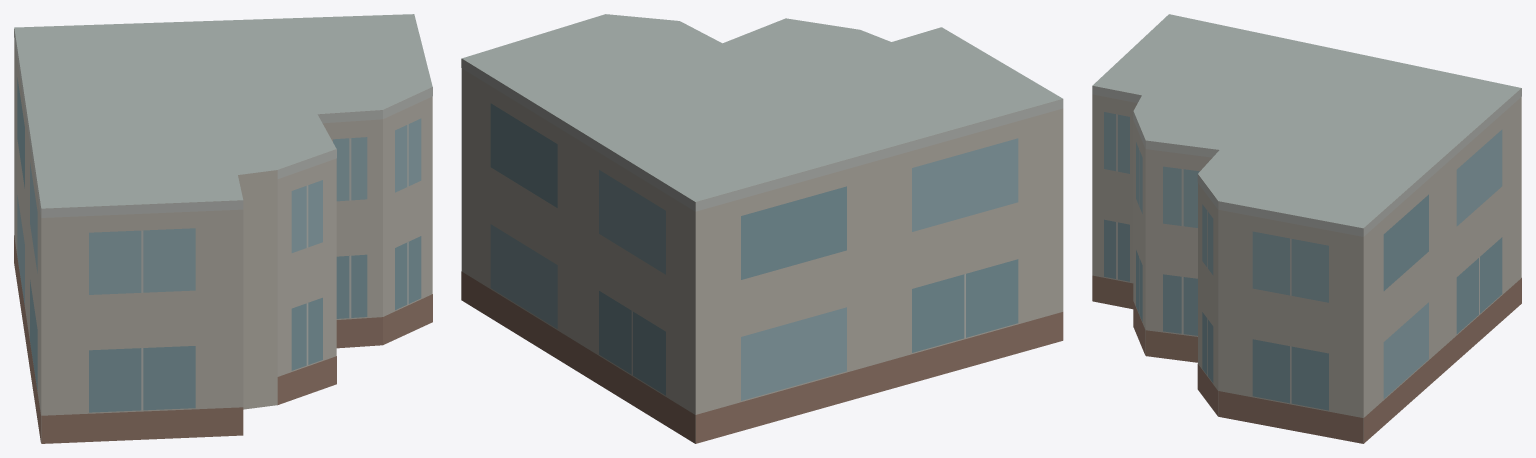
Rendered from survey-upis-32705807.glb.
3 views of the same model, side by side, from view 1: azimuth 30°, elevation 25°; view 2: azimuth 150°, elevation 25°; view 3: azimuth 270°, elevation 25° (orthographic). The views are drawn at different scales.
Visible parts, largest first — view 1: survey-upis-32705807.tmp; view 2: survey-upis-32705807.tmp; view 3: survey-upis-32705807.tmp.
Boxes of the visible parts, x1=… form: survey-upis-32705807.tmp: x1=14, y1=14, x2=432, y2=443; survey-upis-32705807.tmp: x1=461, y1=14, x2=1063, y2=443; survey-upis-32705807.tmp: x1=1092, y1=14, x2=1521, y2=443.
Size of the model in its own units: 13.02 by 6.1 by 11.02.
